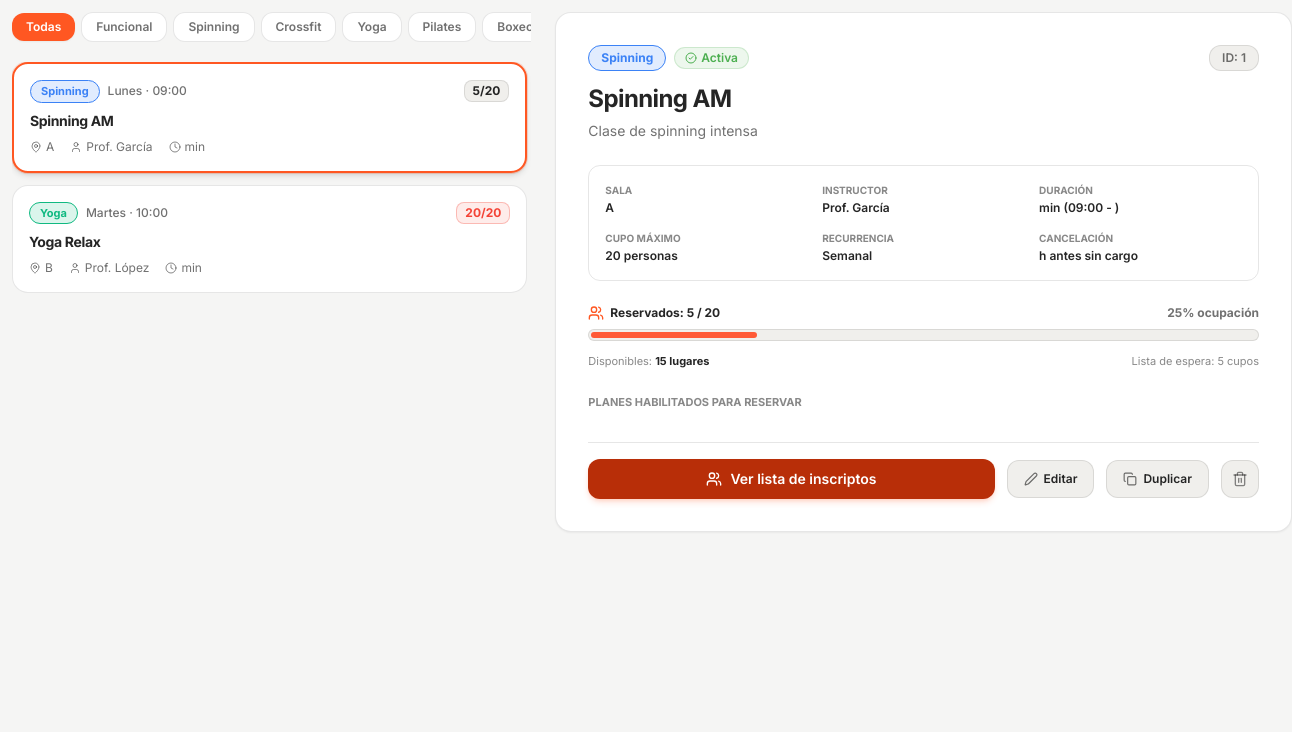
Test: ClassListDetailView › shows empty message when no classes match the filter
Click the button "Crossfit" at (298, 27), box [260,12,336,42]
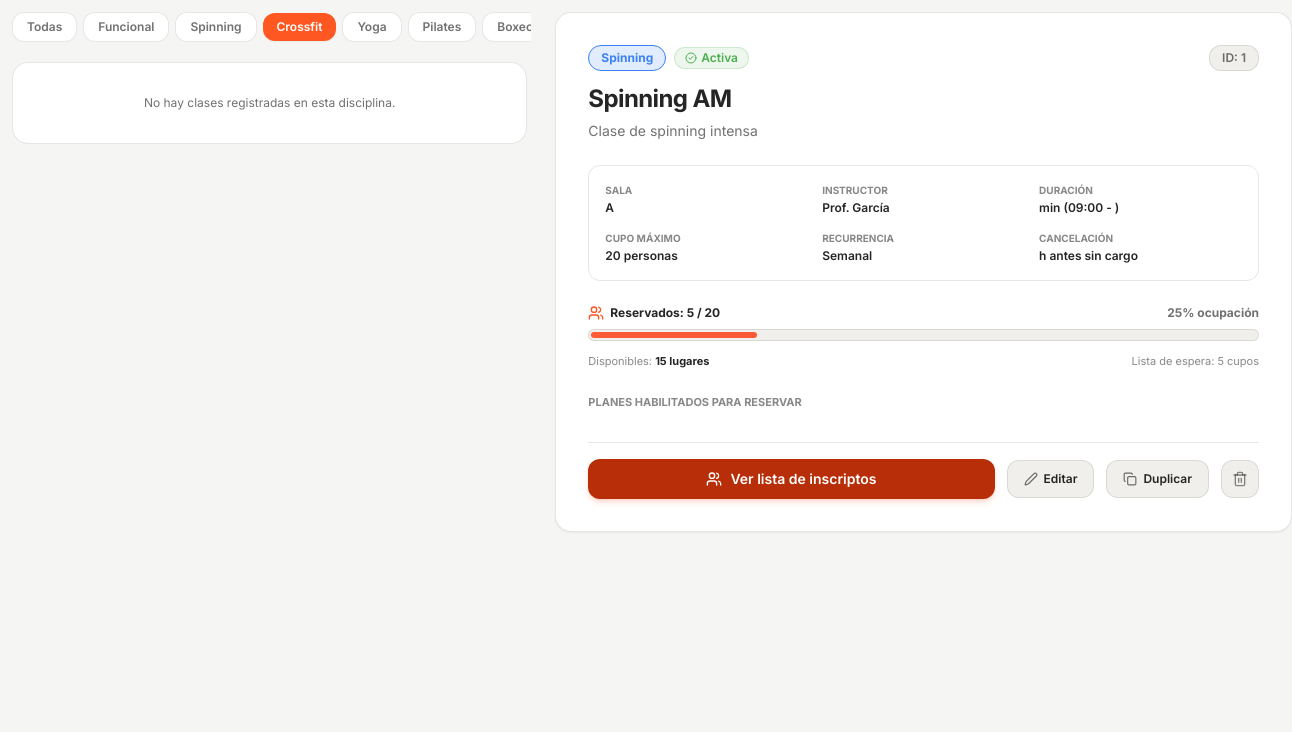
Check: the text "No hay clases registradas en esta disciplina." is shown, box [12,62,527,144]
